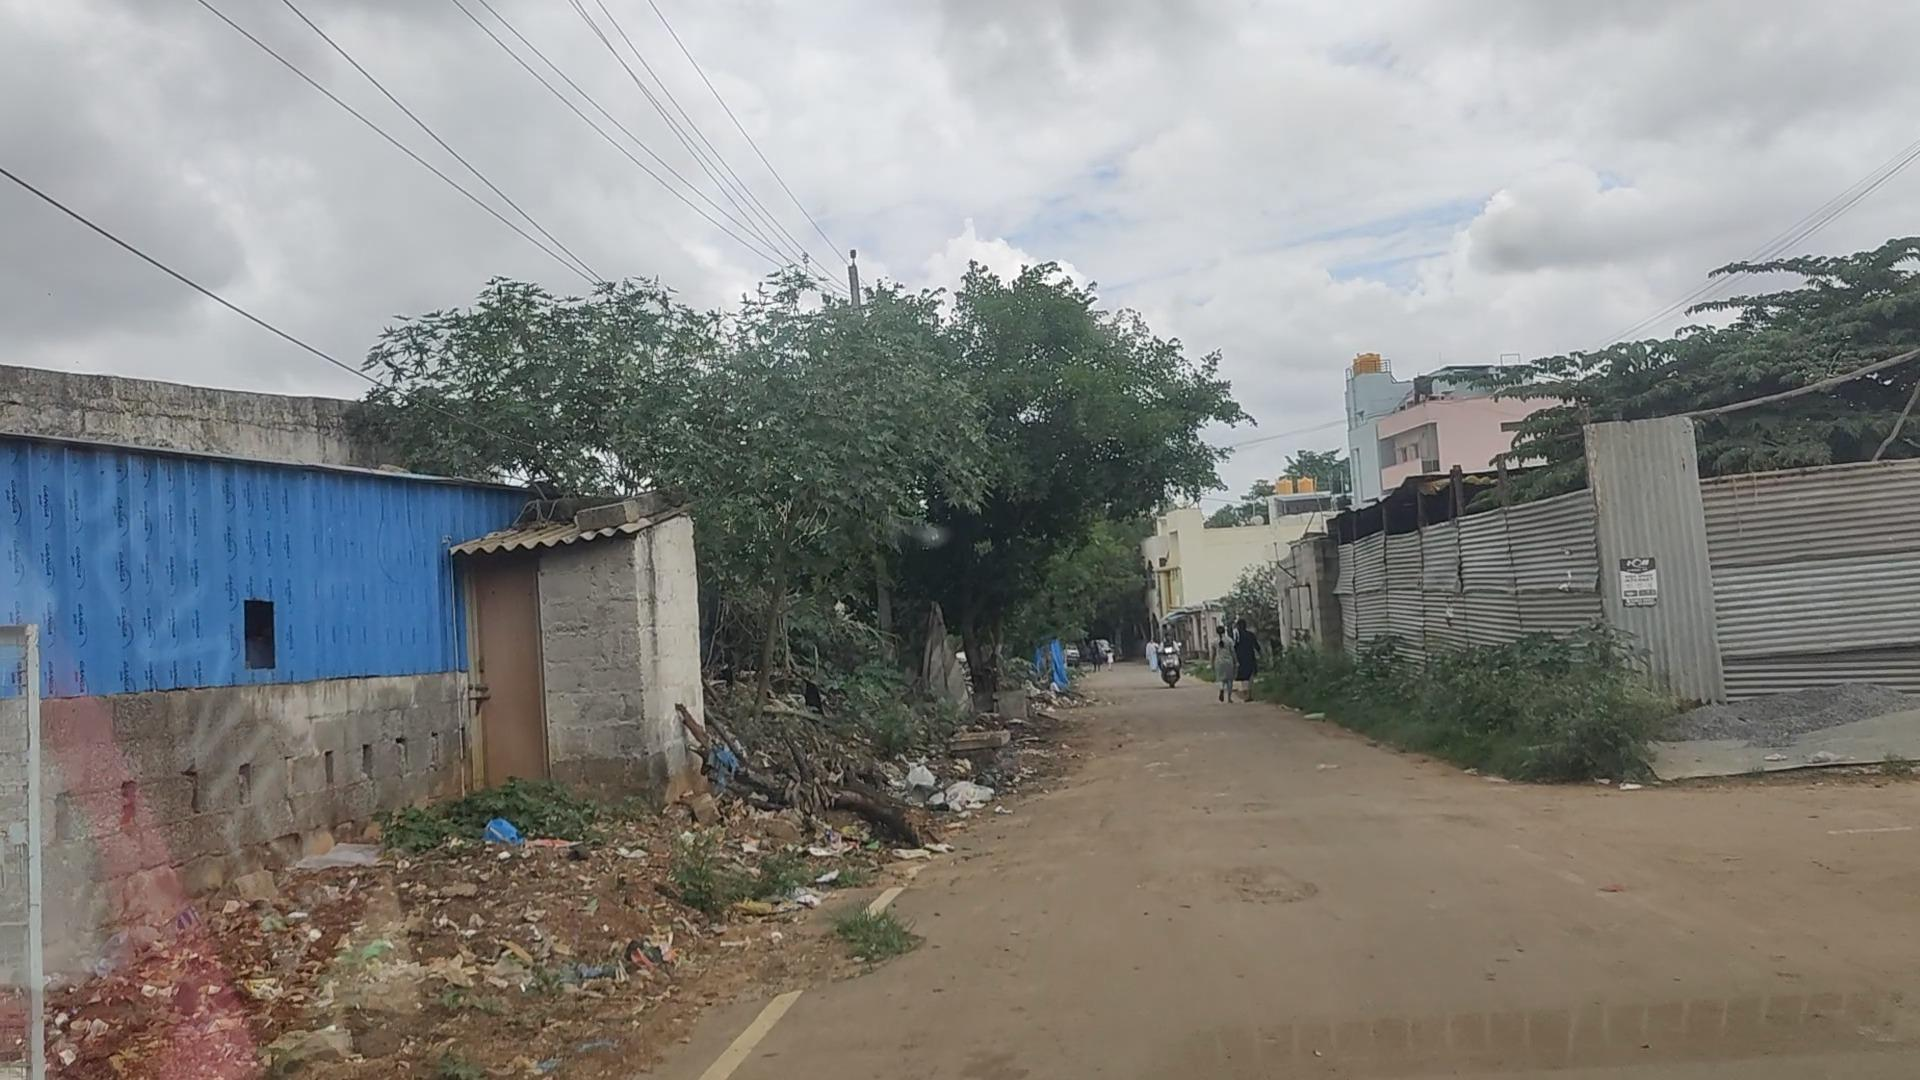RoadDamages: (1199, 839, 1328, 922)
